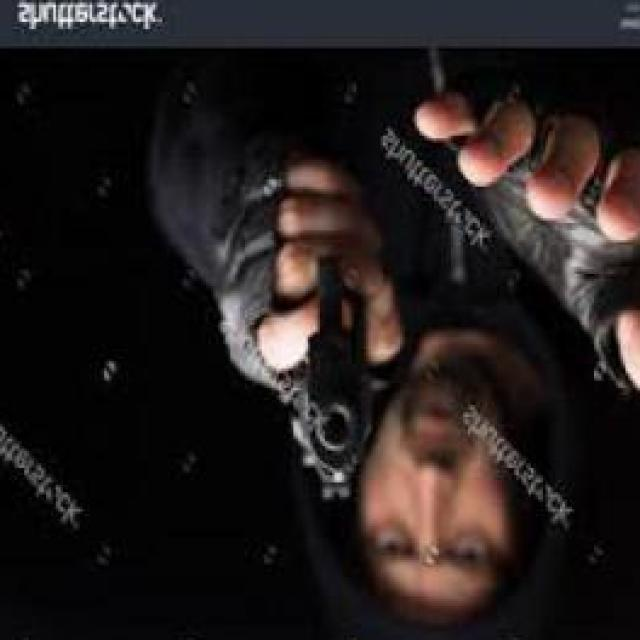pistol: (293, 253, 393, 531)
